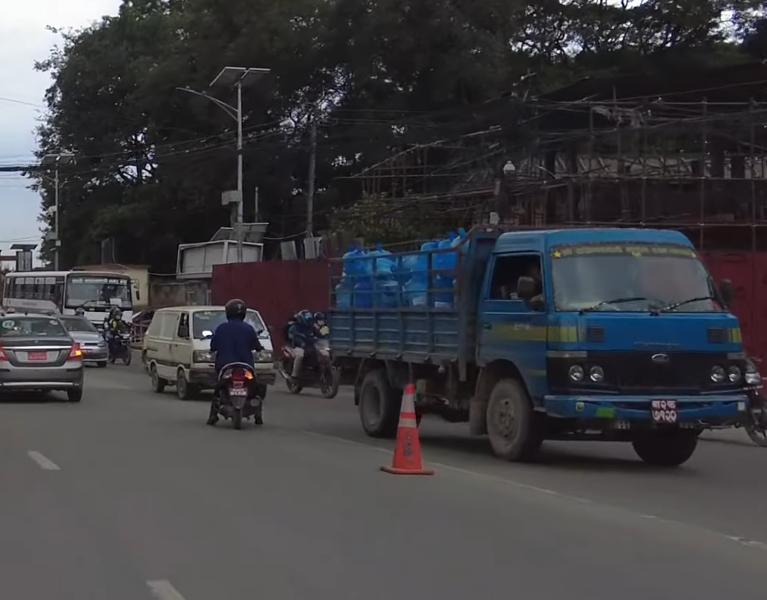bike: (283, 315, 341, 397), (104, 314, 136, 364)
bus: (0, 255, 142, 368)
car: (0, 305, 80, 406)
mini_truck: (324, 214, 767, 475)
scooter: (217, 303, 270, 436)
van: (148, 299, 276, 394)
